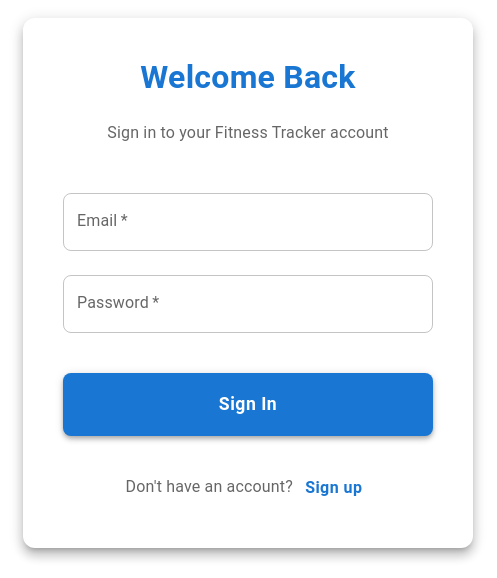
Test: Login Component › shows loading state during submission
The image size is (497, 578).
Type "test@example.com" into the field labelled "Email *" at (248, 222), box [63,192,433,251]
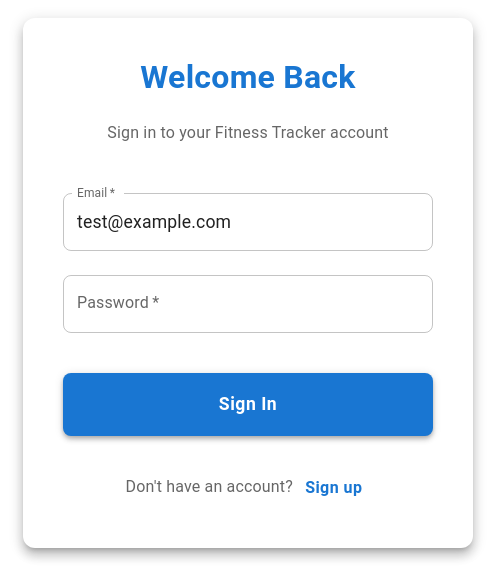
Type "password123" into the password field labelled "Password *" at (248, 304), box [63,275,433,333]
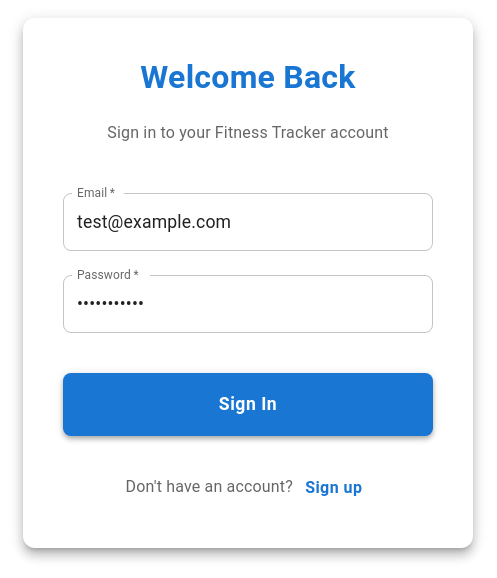
Click the button "Sign In" at (248, 404), box [63,373,433,436]
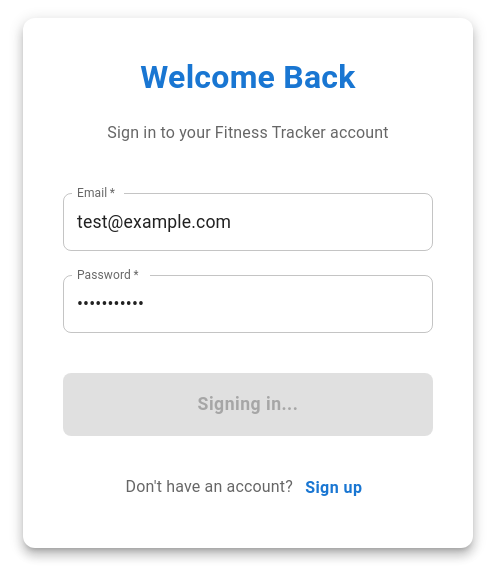
expect the button "Signing in..." is disabled: met, box [63,373,433,436]
